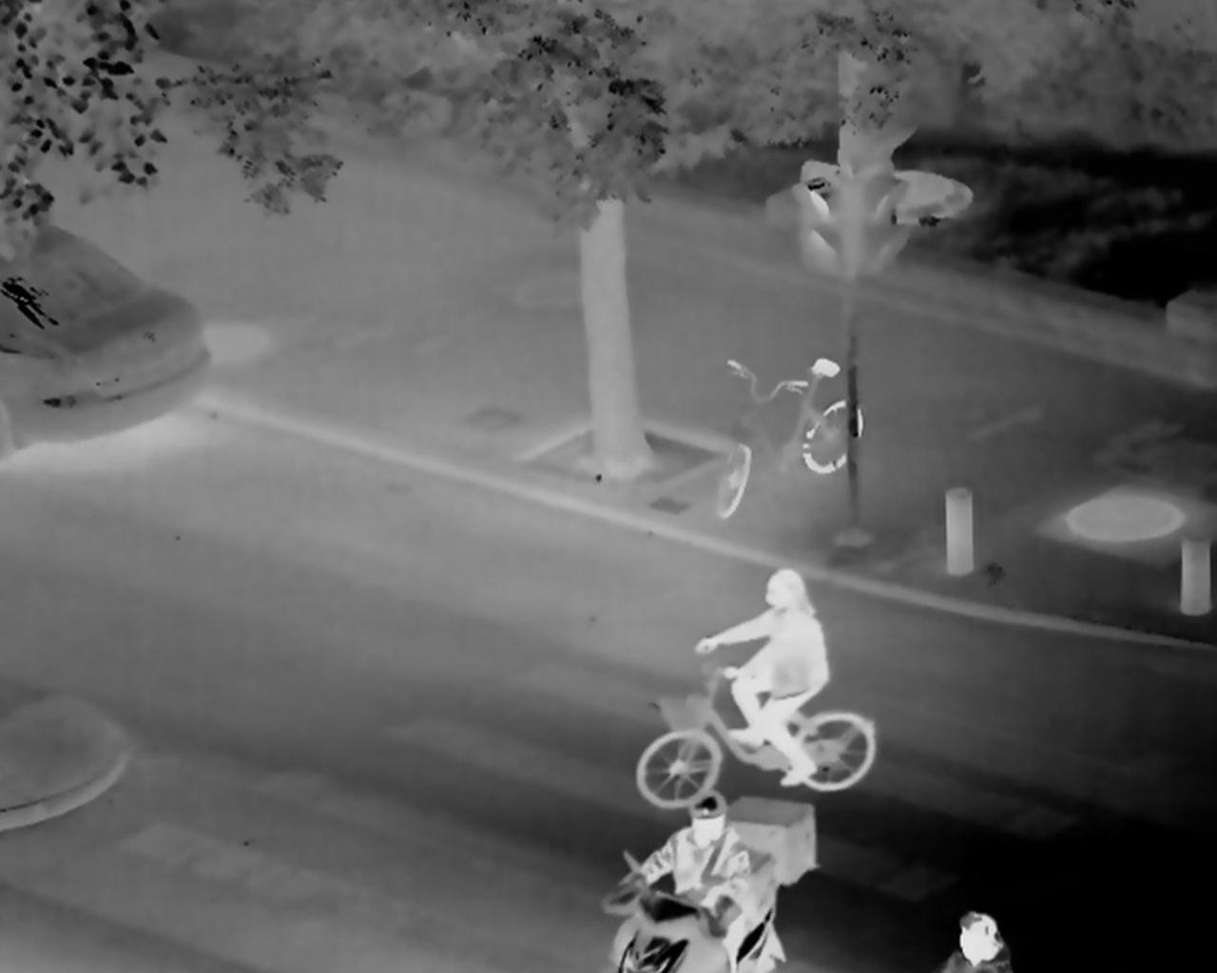person: (692, 566, 829, 782), (626, 792, 757, 973), (933, 911, 1009, 973)
